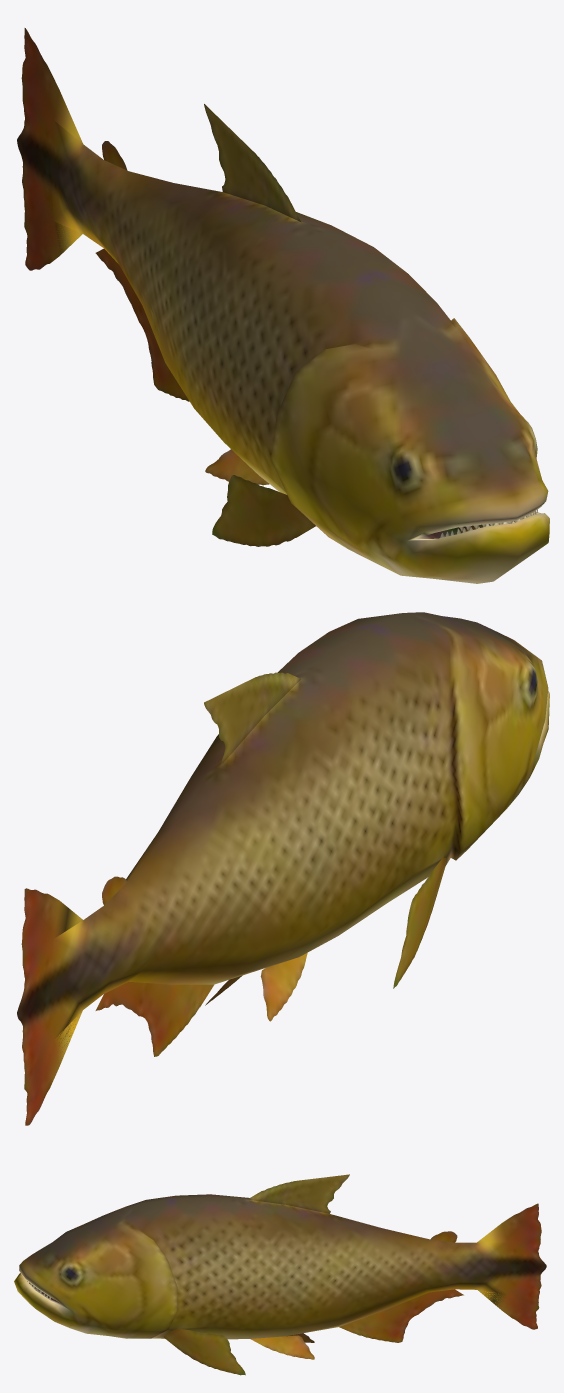
The model's file is dorado.glb.
3 renders of one model, top to bottom at view 1: azimuth 30°, elevation 25°; view 2: azimuth 150°, elevation 25°; view 3: azimuth 270°, elevation 25°, orthographic. The views are drawn at different scales.
Size of the model in its own units: 3 by 5.12 by 13.72.
1 material, 1 textured.
